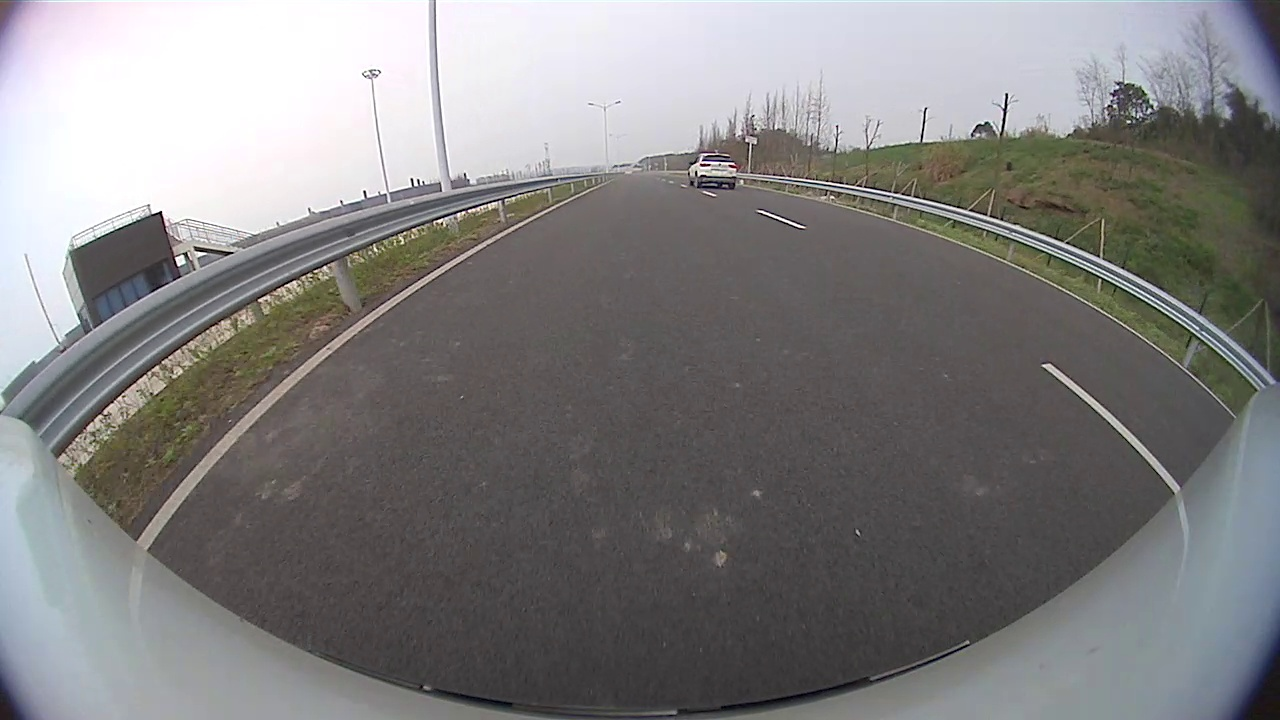car: (687, 152, 737, 189)
rear: (693, 174, 701, 189)
